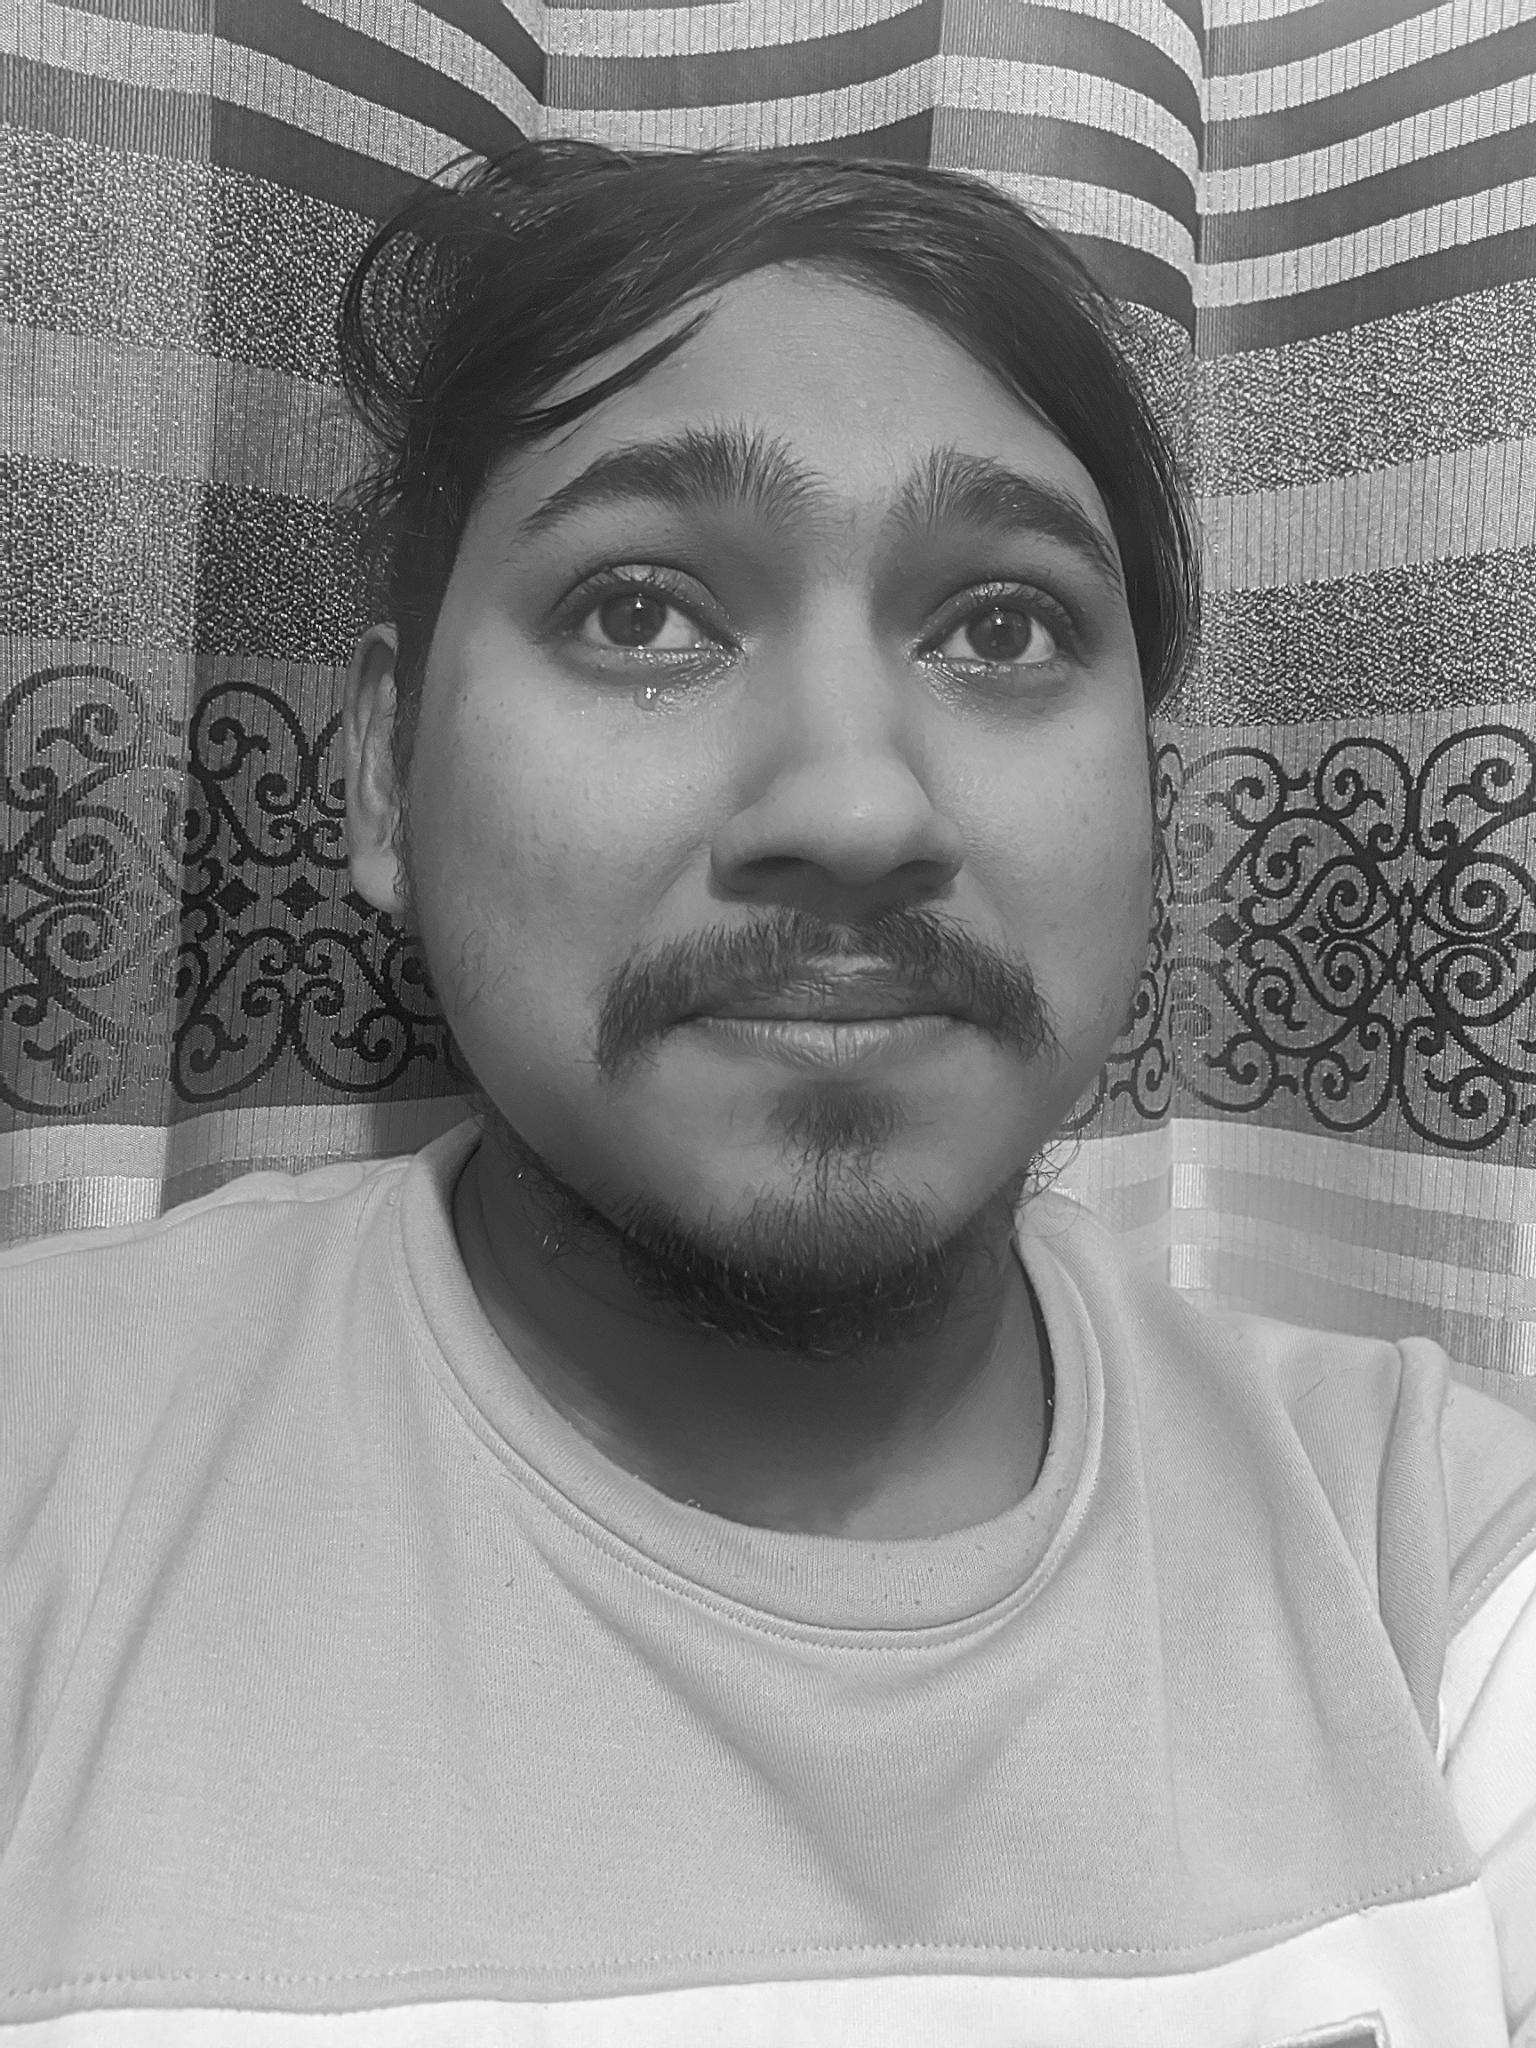Sad: (503, 369, 1150, 1300)
